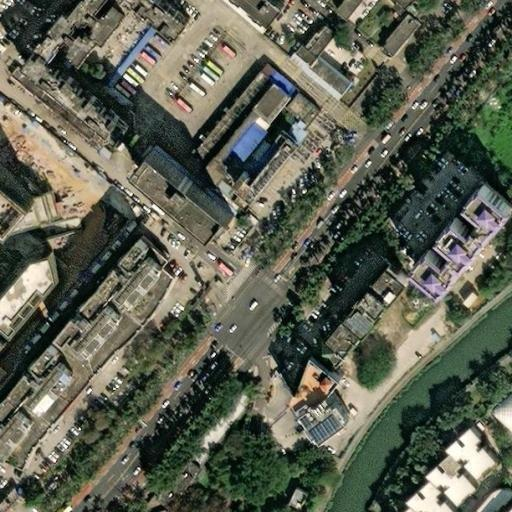building: (31, 61, 141, 156), (422, 184, 512, 297), (382, 144, 479, 246), (178, 74, 268, 176), (130, 151, 221, 232), (194, 111, 269, 193), (291, 357, 355, 448), (235, 131, 307, 210), (0, 264, 67, 343), (346, 257, 414, 332), (95, 29, 148, 91), (437, 426, 488, 477), (417, 451, 467, 502), (156, 462, 200, 512), (185, 419, 229, 469), (313, 319, 358, 365), (397, 478, 448, 512), (289, 27, 331, 68), (0, 167, 31, 220), (304, 59, 346, 97), (376, 17, 414, 58), (251, 86, 289, 126), (295, 67, 335, 101), (489, 389, 511, 434), (471, 491, 511, 512), (282, 95, 309, 123), (217, 402, 243, 429), (266, 74, 292, 98), (280, 490, 304, 512), (288, 362, 306, 386), (280, 55, 300, 73), (298, 108, 316, 127), (255, 64, 271, 80), (293, 121, 304, 132), (0, 105, 5, 115)
